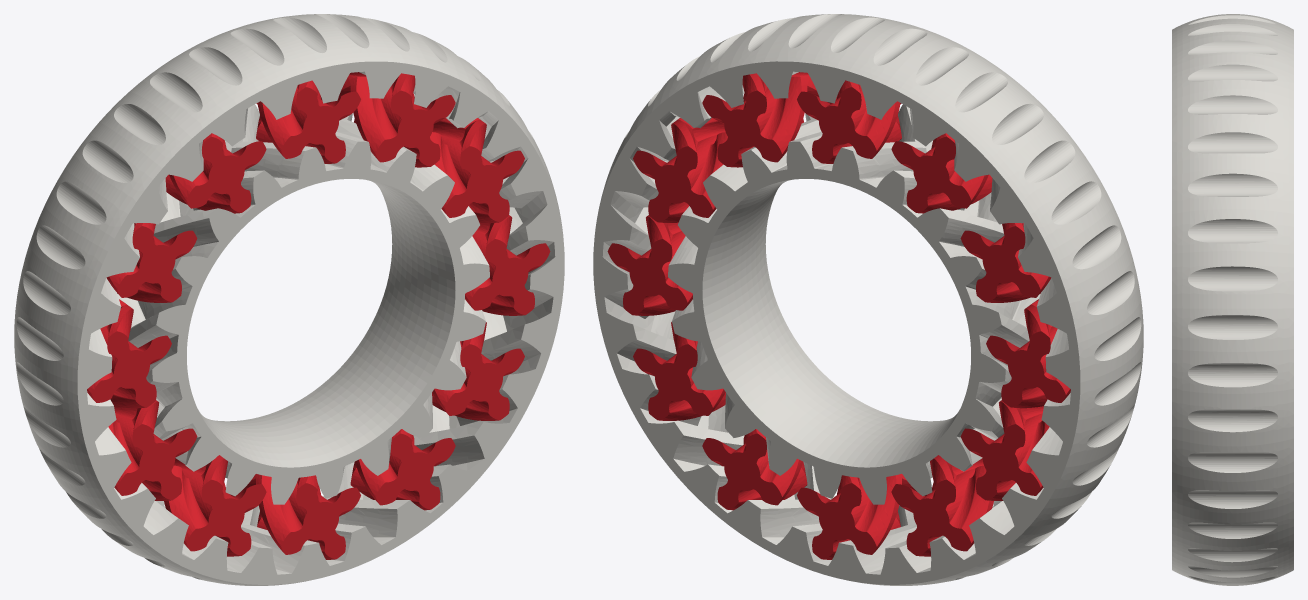
Rendered from prsten.glb.
3 views of the same model, side by side, from view 1: azimuth 30°, elevation 25°; view 2: azimuth 150°, elevation 25°; view 3: azimuth 270°, elevation 25° (orthographic). The views are drawn at different scales.
Visible parts, largest first — view 1: vnejsi, kolecka, vnitrni; view 2: vnejsi, kolecka, vnitrni; view 3: vnejsi.
Part boxes in pixels (bbox=[...]): vnejsi: bbox=[14, 14, 564, 585]; kolecka: bbox=[87, 72, 550, 559]; vnitrni: bbox=[117, 104, 489, 504]; vnejsi: bbox=[593, 14, 1143, 585]; kolecka: bbox=[607, 72, 1070, 559]; vnitrni: bbox=[668, 104, 1040, 504]; vnejsi: bbox=[1172, 14, 1293, 585].
Bounding box in the file's own units: 0.0329 × 0.0329 × 0.007.
